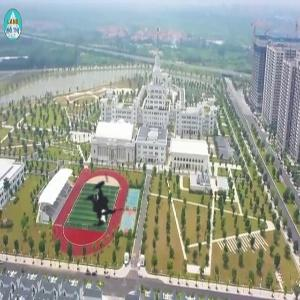drone: (26, 134, 181, 289)
